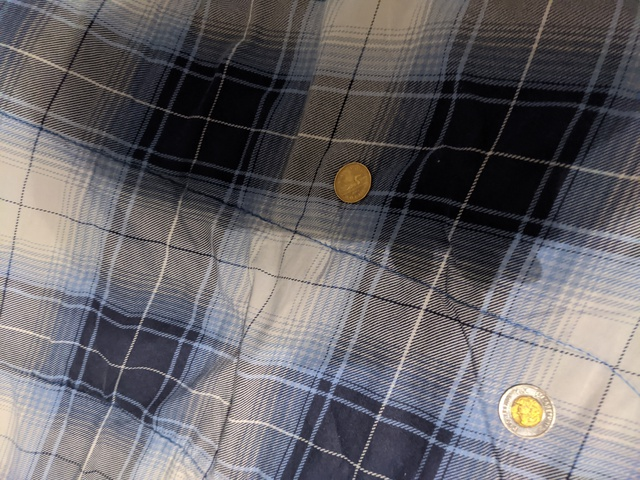loonie: (326, 164, 374, 205)
twonie: (495, 377, 559, 447)
